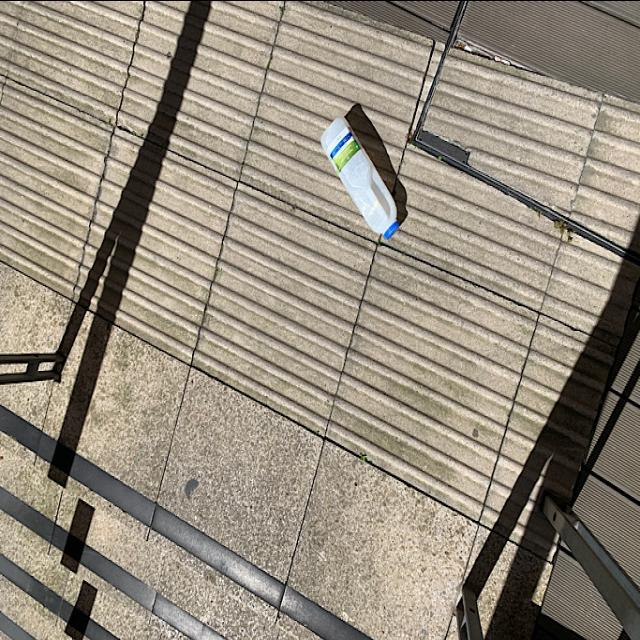HDPEM: (318, 102, 401, 248)
